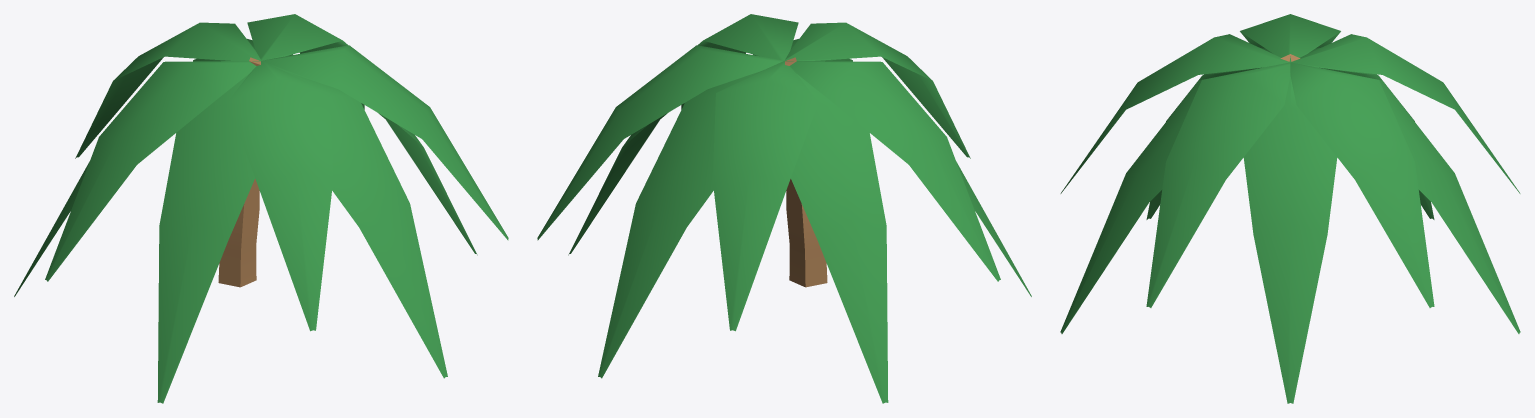
The model's file is palm_small.glb.
The picture shows the model from 3 angles, left to right: view 1: azimuth 30°, elevation 25°; view 2: azimuth 150°, elevation 25°; view 3: azimuth 270°, elevation 25°; orthographic projection. The views are drawn at different scales.
Parts seen in each view (by area): view 1: palm_small; view 2: palm_small; view 3: palm_small.
Part boxes in pixels (x1,y1,x2,y2): palm_small: [14, 14, 508, 403]; palm_small: [537, 14, 1031, 403]; palm_small: [1060, 14, 1520, 403].
Size of the model in its own units: 3.4 by 1.98 by 3.25.
